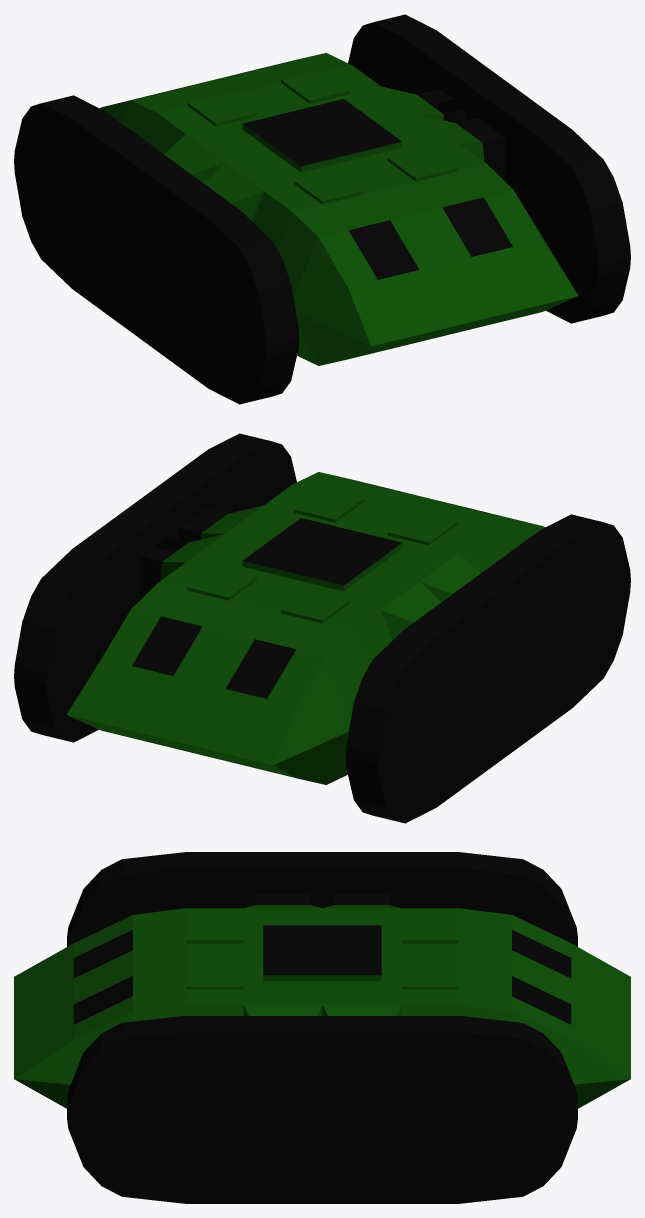
Rendered from rudy.fbx.
The picture shows the model from 3 angles, top to bottom: view 1: azimuth 30°, elevation 25°; view 2: azimuth 150°, elevation 25°; view 3: azimuth 270°, elevation 25°; orthographic projection.
Visible parts, largest first — view 1: Cube; view 2: Cube; view 3: Cube.
Part boxes in pixels (box(x1,y1,x2,y2)): Cube: box(14, 14, 630, 404); Cube: box(14, 433, 630, 823); Cube: box(14, 852, 630, 1203).
Bounding box in the file's own units: 539 × 240 × 781.
